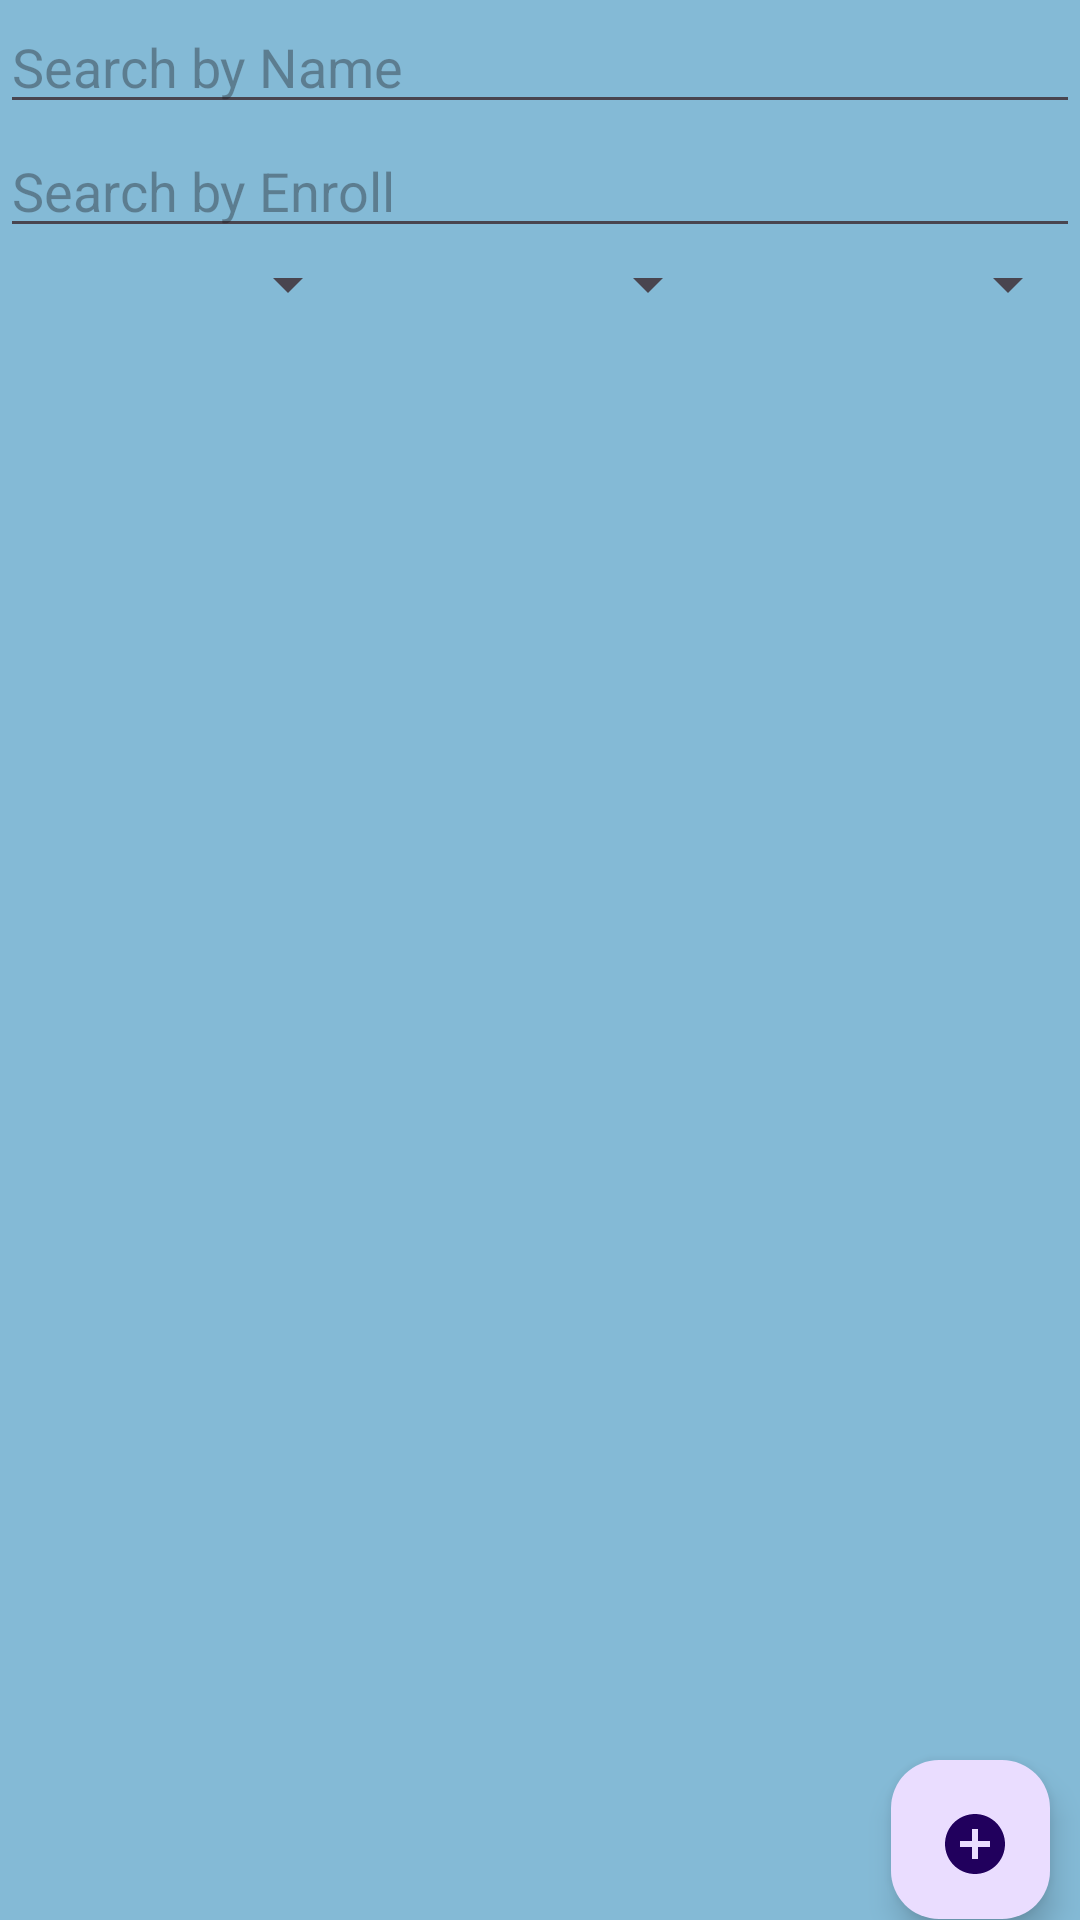

Named icons in this screenshot (1080px×1920px) and their centers, (x=x, y=y):
add: (x=970, y=1839)
